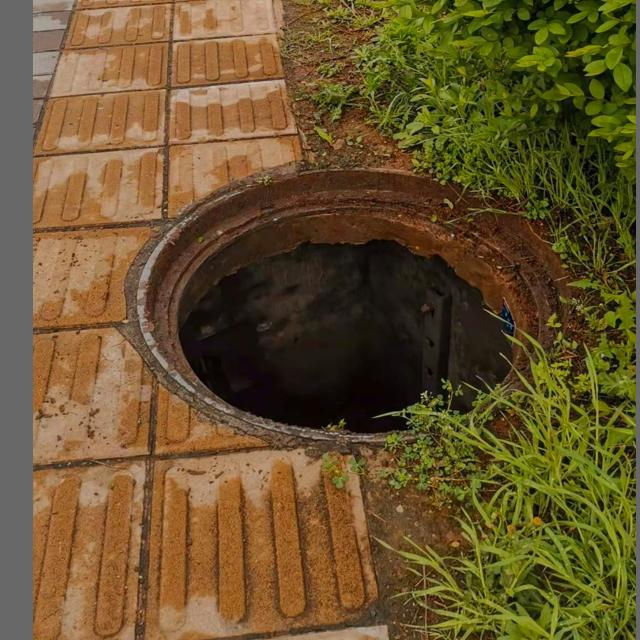lose: (129, 164, 563, 444)
